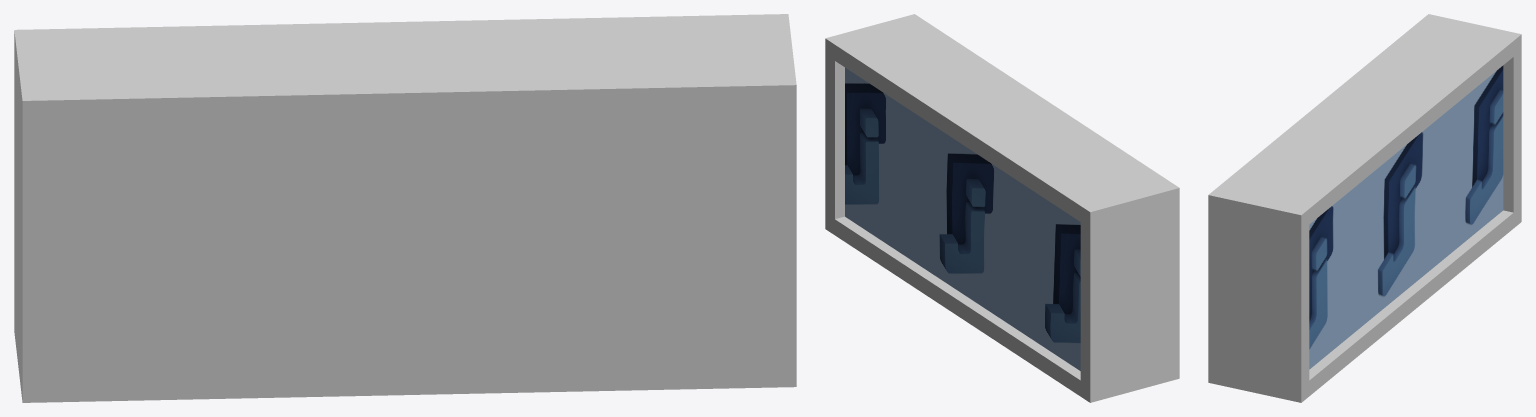
File: BragaV1_megatron.fbx
The picture shows the model from 3 angles, left to right: view 1: azimuth 30°, elevation 25°; view 2: azimuth 150°, elevation 25°; view 3: azimuth 270°, elevation 25°; orthographic projection. The views are drawn at different scales.
Visible parts, largest first — view 1: megatron; view 2: megatron; view 3: megatron.
Part boxes in pixels (bbox=[...]): megatron: bbox=[14, 14, 796, 402]; megatron: bbox=[825, 14, 1179, 402]; megatron: bbox=[1208, 14, 1521, 402].
Size of the model in its own units: 67.3 by 29.26 by 44.29.
